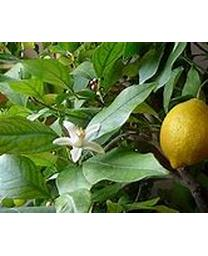lemon: (159, 98, 207, 170)
